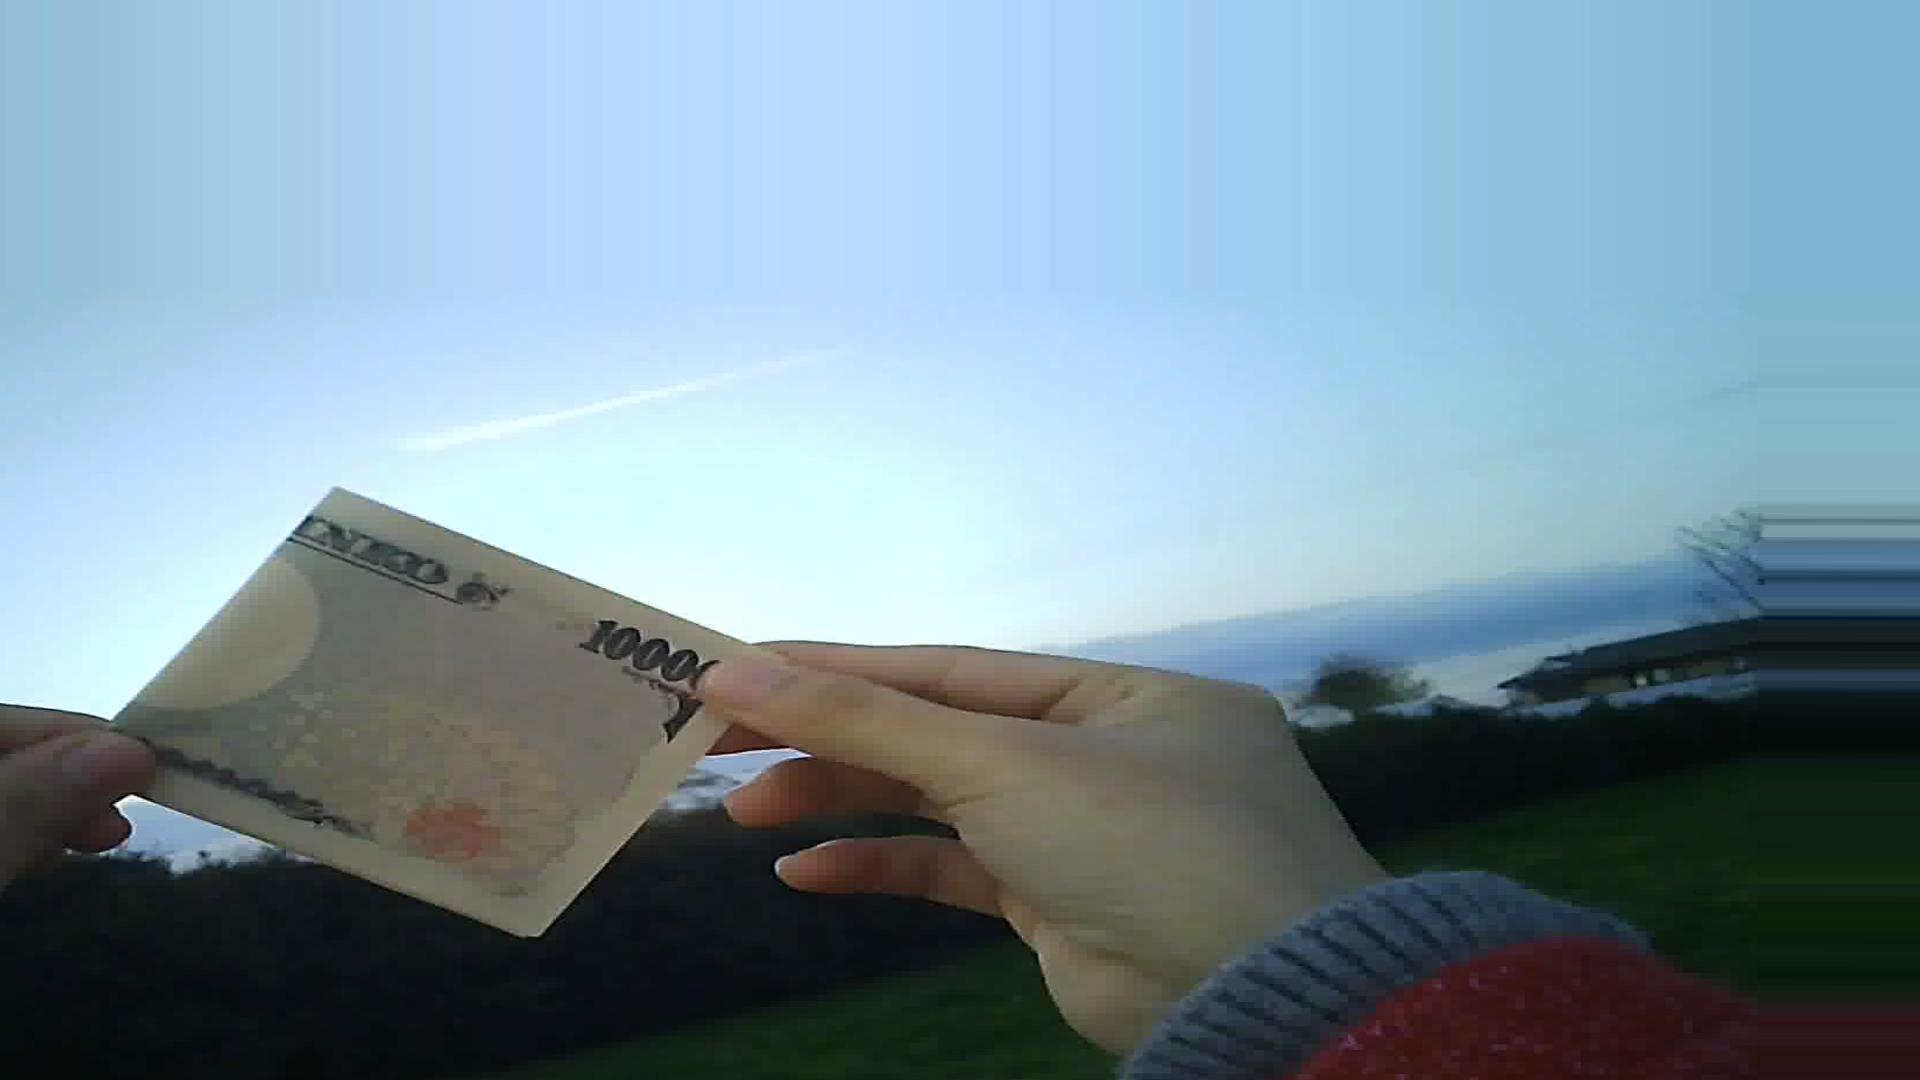10,000 Yen: (51, 469, 764, 924)
